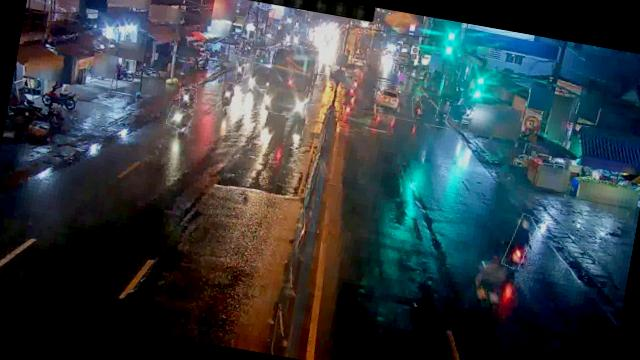Bike: (504, 212, 536, 270), (166, 106, 193, 132), (217, 81, 236, 112), (178, 86, 199, 110), (436, 97, 452, 122), (234, 56, 246, 80), (411, 96, 424, 118)
Car: (374, 82, 404, 112), (248, 62, 274, 92)
Truck: (262, 40, 320, 119)
